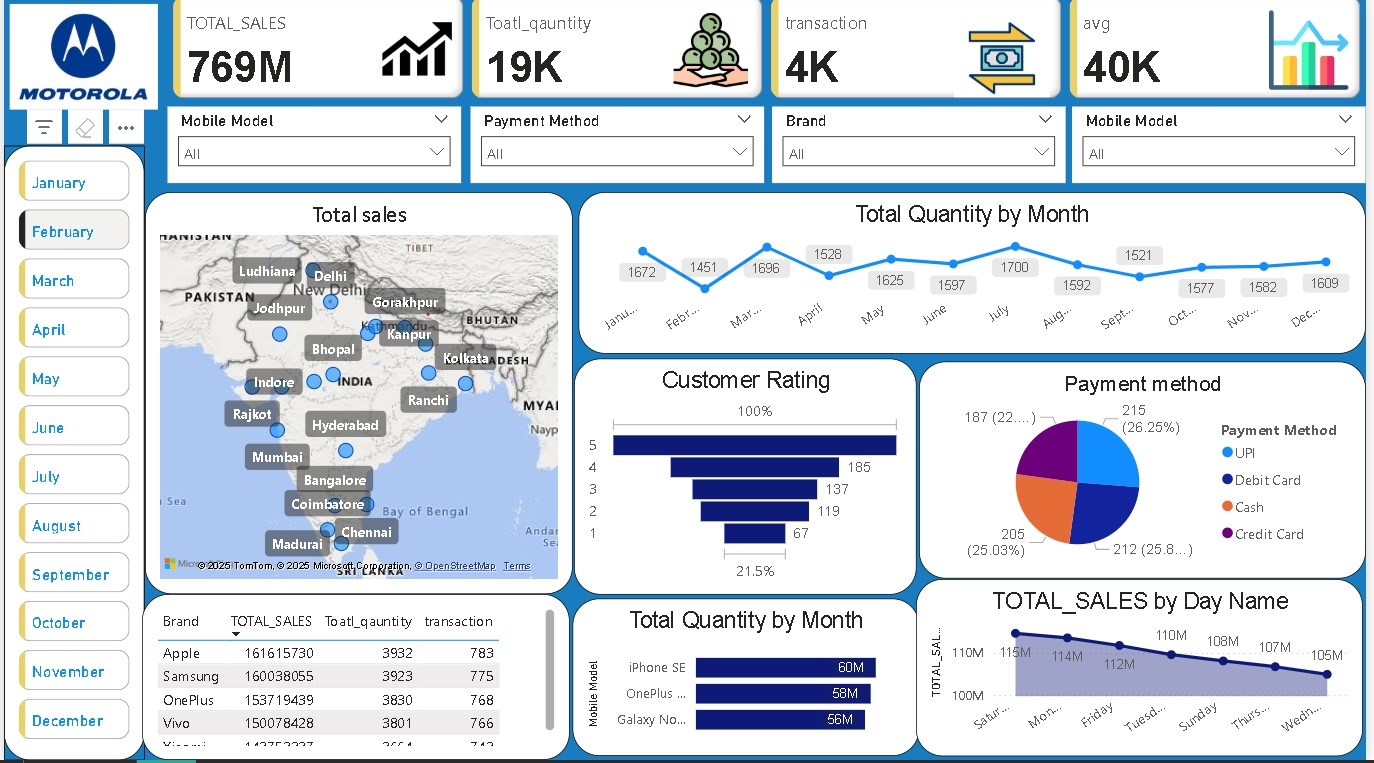

The page's visual inventory and layout, read from the dashboard file:
{"tool":"powerbi","page":{"name":"Page 1","canvas":[1280,720],"ordinal":0},"visuals":[{"type":"cardVisual","fields":{"Data":["Mobile sales.TOTAL_SALES","Mobile sales.Toatl_qauntity","Mobile sales.transaction","Mobile sales.avg"]},"box":[154,0,1126,118],"z":0},{"type":"map","title":"Total sales ","fields":{"Category":["Mobile sales.City"]},"box":[132,186,402,378],"z":1000},{"type":"lineChart","title":"Total Quantity by Month ","fields":{"Y":["Mobile sales.Toatl_qauntity"],"Category":["Mobile sales.Date.Variation.Date Hierarchy.Month","Mobile sales.Date.Variation.Date Hierarchy.Day"]},"box":[539.8,184.7,740.2,152.3],"z":2000},{"type":"clusteredBarChart","title":"Total Quantity by Month ","fields":{"Category":["Mobile sales.Mobile Model"],"Y":["Mobile sales.TOTAL_SALES"]},"box":[534,568,326,148],"z":3000},{"type":"advancedSlicerVisual","fields":{"Values":["Mobile sales.Date.Variation.Date Hierarchy.Month"]},"box":[0,142,132,578],"z":4000},{"type":"pieChart","title":"Payment method","fields":{"Y":["Mobile sales.transaction"],"Category":["Mobile sales.Payment Method"]},"box":[859.8,342.6,420.2,204.4],"z":5000},{"type":"funnel","title":"Customer Rating","fields":{"Category":["Mobile sales.Customer Ratings"],"Y":["CountNonNull(Mobile sales.Date)"]},"box":[535.8,341.2,322.9,221.4],"z":6000},{"type":"areaChart","fields":{"Category":["Mobile sales.Day Name"],"Y":["Mobile sales.TOTAL_SALES"]},"box":[860.1,549.9,417.3,166.4],"z":7000},{"type":"tableEx","fields":{"Values":["Mobile sales.Brand","Mobile sales.TOTAL_SALES","Mobile sales.Toatl_qauntity","Mobile sales.transaction"]},"box":[130,564,402,156],"z":8000},{"type":"slicer","fields":{"Values":["Mobile sales.Mobile Model"]},"box":[154,106,276,72],"z":9000},{"type":"slicer","fields":{"Values":["Mobile sales.Payment Method"]},"box":[438,106,276,72],"z":10000},{"type":"slicer","fields":{"Values":["Mobile sales.Brand"]},"box":[722,106,276,72],"z":11000},{"type":"slicer","fields":{"Values":["Mobile sales.Mobile Model"]},"box":[1004,106,276,72],"z":12000},{"type":"image","box":[0,0,149.5,118.4],"z":13000}]}

Visuals, with their boxes in screenshot pixels (x1, y1, x2, y2):
cardVisual - Mobile sales.TOTAL_SALES x Mobile sales.Toatl_qauntity: rect(163, 0, 1373, 110)
"Total sales " map: rect(139, 183, 574, 593)
"Total Quantity by Month " lineChart: rect(581, 182, 1373, 347)
"Total Quantity by Month " clusteredBarChart: rect(574, 597, 927, 757)
advancedSlicerVisual - Mobile sales.Date.Variation.Date Hierarchy.Month: rect(0, 136, 139, 761)
"Payment method" pieChart: rect(927, 353, 1373, 574)
"Customer Rating" funnel: rect(576, 351, 926, 591)
areaChart - Mobile sales.Day Name x Mobile sales.TOTAL_SALES: rect(927, 577, 1373, 757)
tableEx - Mobile sales.Brand x Mobile sales.TOTAL_SALES: rect(137, 593, 572, 761)
slicer - Mobile sales.Mobile Model: rect(163, 97, 462, 175)
slicer - Mobile sales.Payment Method: rect(470, 97, 769, 175)
slicer - Mobile sales.Brand: rect(778, 97, 1077, 175)
slicer - Mobile sales.Mobile Model: rect(1083, 97, 1373, 175)
image: rect(0, 0, 158, 110)
